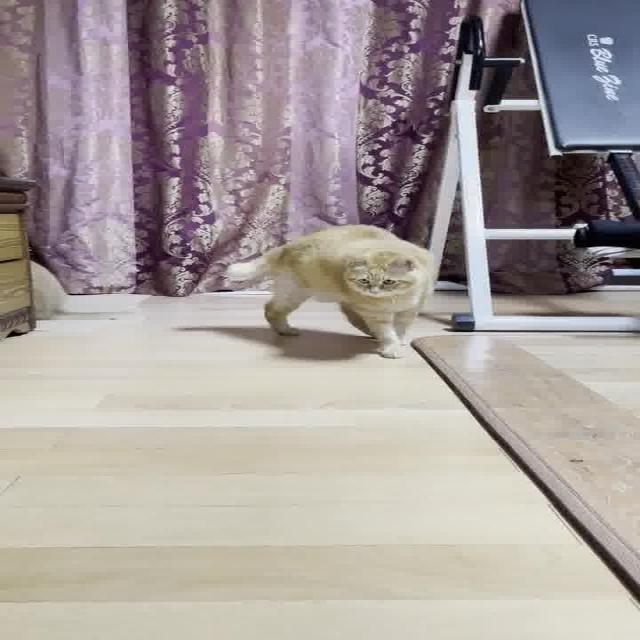cat: (193, 208, 477, 373)
